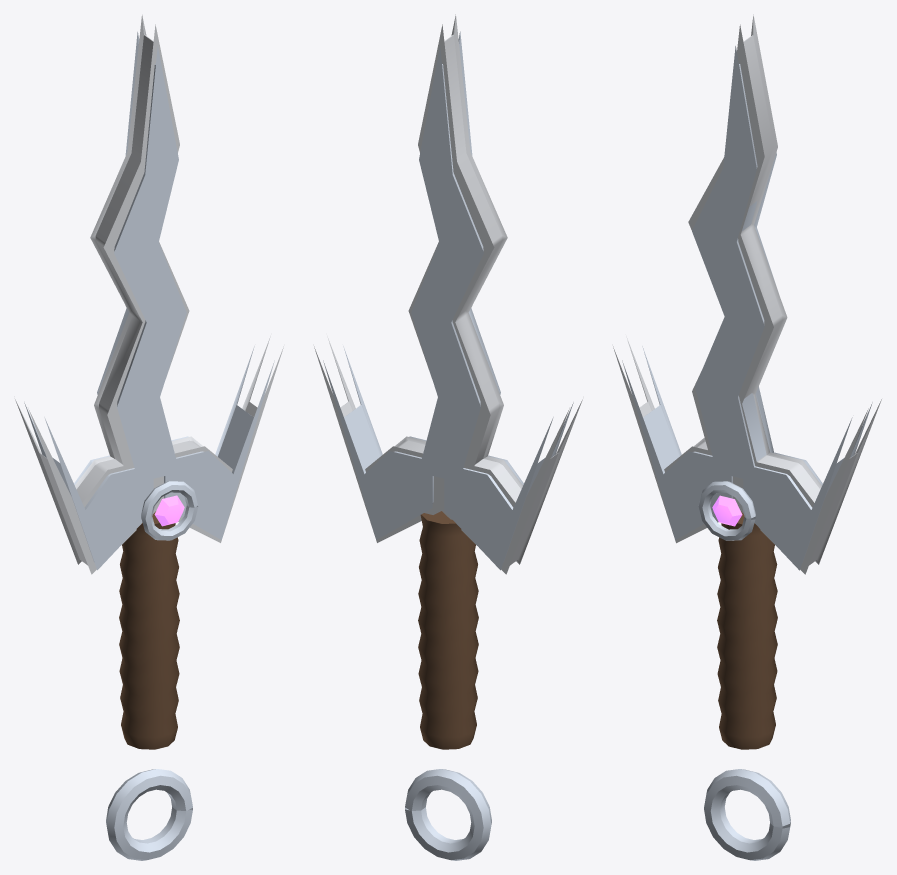
The model's file is artisan_serpent_kris_dagger.glb.
The picture shows the model from 3 angles, left to right: view 1: azimuth 30°, elevation 25°; view 2: azimuth 150°, elevation 25°; view 3: azimuth 330°, elevation 25°; orthographic projection.
Parts seen in each view (by area): view 1: artisan_serpent_kris_dagger; view 2: artisan_serpent_kris_dagger; view 3: artisan_serpent_kris_dagger.
Boxes of the visible parts, x1,y1,x2,y2 form: artisan_serpent_kris_dagger: (15, 14, 283, 860); artisan_serpent_kris_dagger: (314, 14, 582, 860); artisan_serpent_kris_dagger: (613, 14, 881, 860).
Size of the model in its own units: 0.1995 by 0.6223 by 0.0539.
